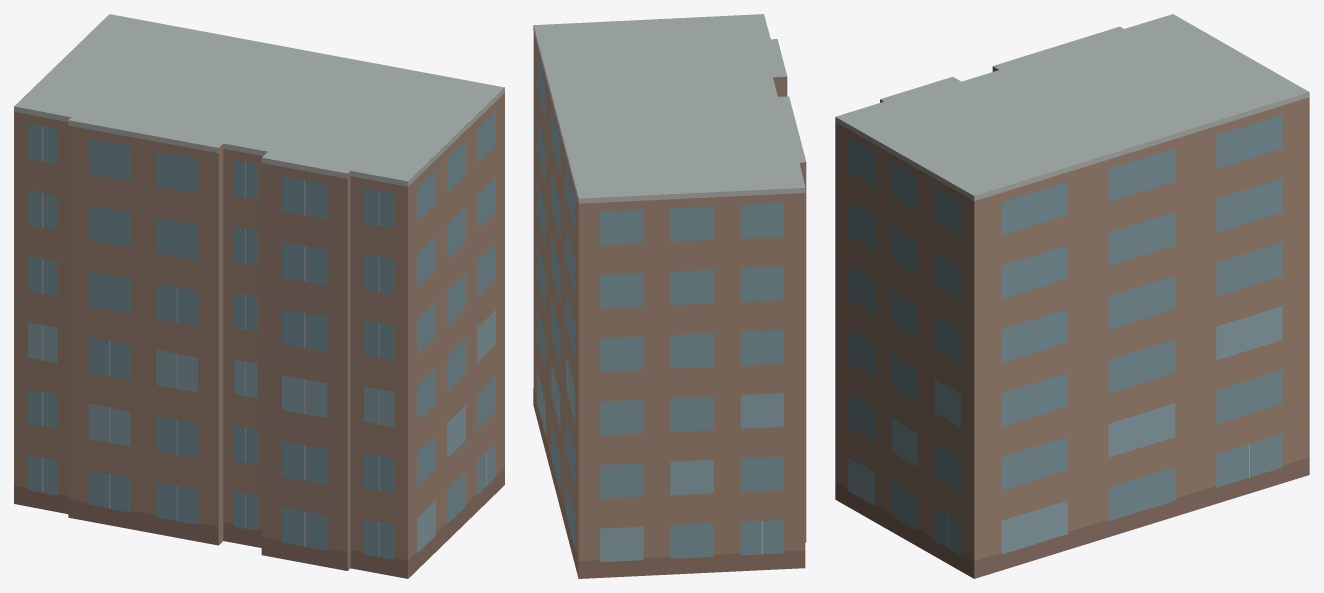
Rendered from survey-upis-32754263.glb.
3 renders of one model, left to right at view 1: azimuth 30°, elevation 25°; view 2: azimuth 150°, elevation 25°; view 3: azimuth 270°, elevation 25°, orthographic. The views are drawn at different scales.
Parts seen in each view (by area): view 1: survey-upis-32754263.tmp; view 2: survey-upis-32754263.tmp; view 3: survey-upis-32754263.tmp.
Part boxes in pixels (x1,y1,x2,y2): survey-upis-32754263.tmp: (14,14,504,578); survey-upis-32754263.tmp: (533,14,806,578); survey-upis-32754263.tmp: (835,14,1309,578).
Bounding box in the file's own units: 18.68 × 18.3 × 20.56.
